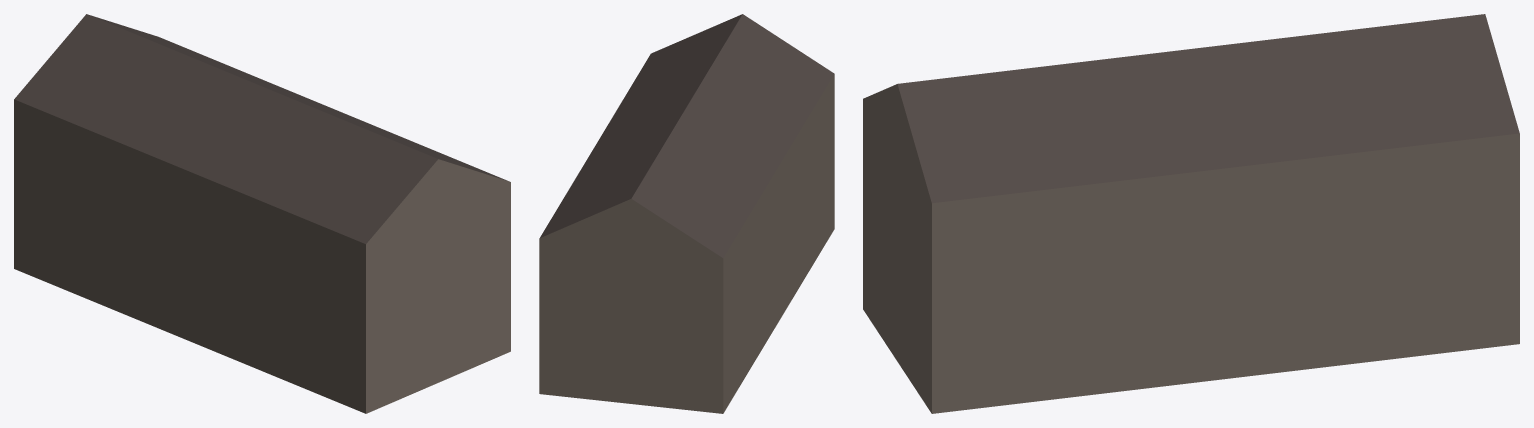
3 views of the same model, side by side, from view 1: azimuth 30°, elevation 25°; view 2: azimuth 150°, elevation 25°; view 3: azimuth 270°, elevation 25° (orthographic). The views are drawn at different scales.
Parts seen in each view (by area): view 1: HP-w859457504; view 2: HP-w859457504; view 3: HP-w859457504.
Part boxes in pixels (box(x1,y1,x2,y2)): HP-w859457504: box(14, 14, 510, 413); HP-w859457504: box(539, 14, 834, 413); HP-w859457504: box(863, 14, 1519, 413).
Bounding box in the file's own units: 10.65 × 7.91 × 16.95.
